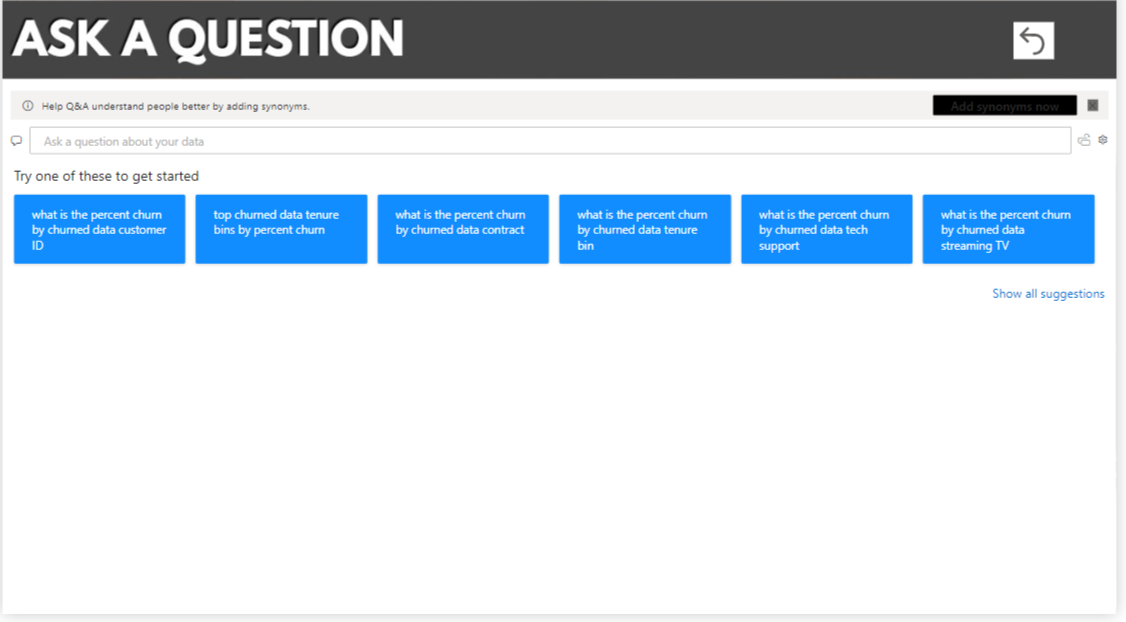

This screenshot's page, from the dashboard's own definition file:
{"tool":"powerbi","page":{"name":"Ask a question","canvas":[1280,720],"ordinal":4},"visuals":[{"type":"qnaVisual","box":[0,105.1,1280,614.9],"z":0},{"type":"actionButton","box":[1161.8,39.4,46.6,43],"z":1000}]}

Visuals, with their boxes in screenshot pixels (x1, y1, x2, y2), scaled from the page's 1280x720 canvas onto the 1126x622 screenshot:
qnaVisual: <bbox>0, 91, 1125, 621</bbox>
actionButton: <bbox>1022, 34, 1063, 71</bbox>
